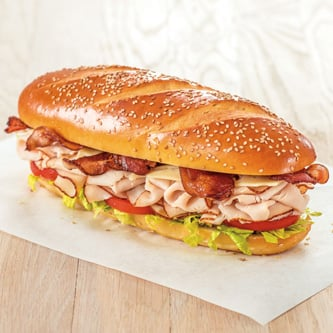soup: (5, 63, 324, 267)
